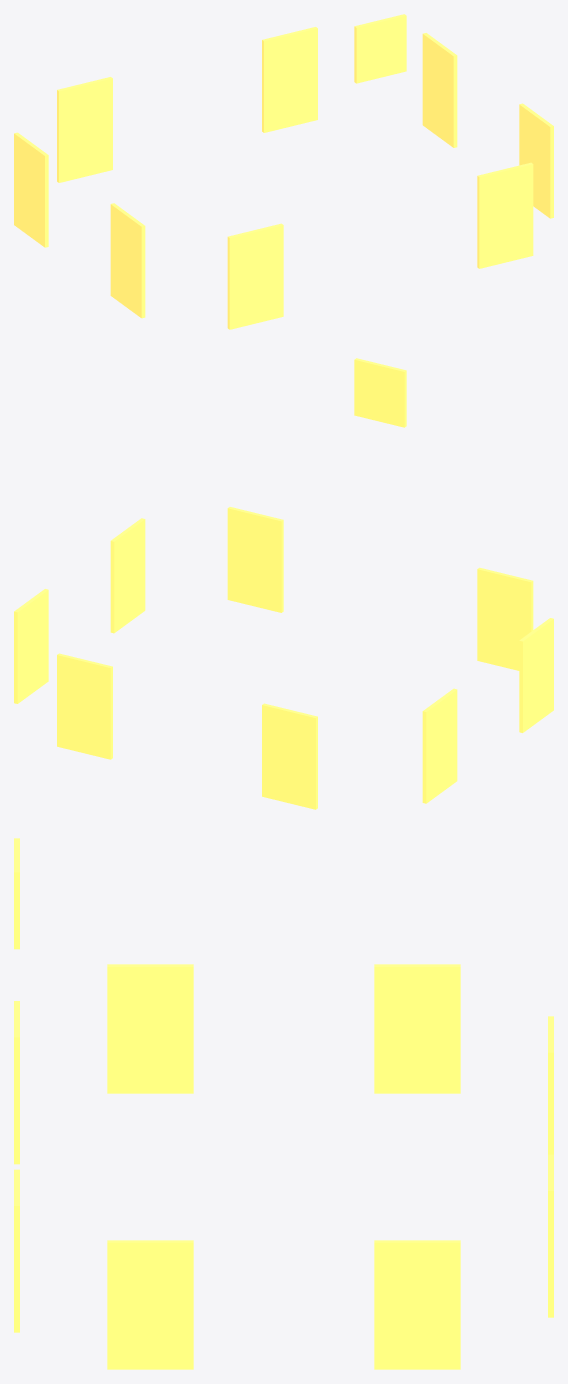
Rendered from CandyHouse_Glow.glb.
The picture shows the model from 3 angles, top to bottom: view 1: azimuth 30°, elevation 25°; view 2: azimuth 150°, elevation 25°; view 3: azimuth 270°, elevation 25°; orthographic projection. The views are drawn at different scales.
Parts seen in each view (by area): view 1: CandyHouse_Glow; view 2: CandyHouse_Glow; view 3: CandyHouse_Glow.
Boxes of the visible parts, <box> form: CandyHouse_Glow: <box>14,14,553,329</box>; CandyHouse_Glow: <box>14,358,553,809</box>; CandyHouse_Glow: <box>14,838,553,1369</box>.
Bounding box in the file's own units: 22.2 × 13.95 × 18.2.
